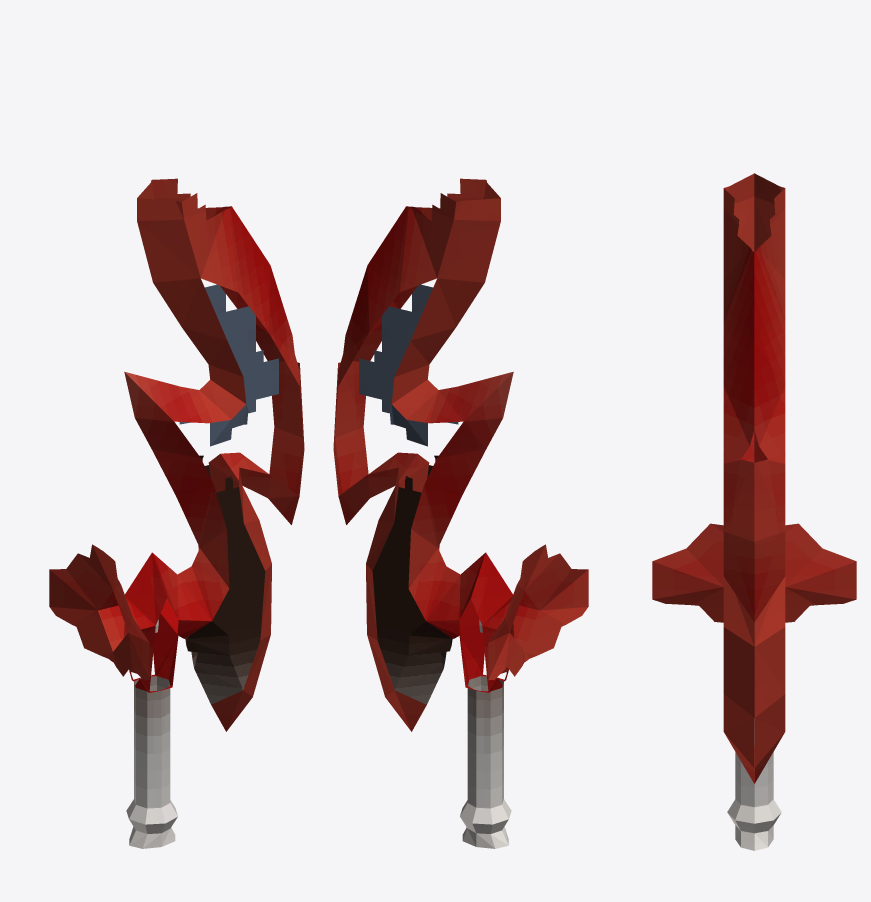
The model's file is 1001nights.obj.
The picture shows the model from 3 angles, left to right: view 1: azimuth 30°, elevation 25°; view 2: azimuth 150°, elevation 25°; view 3: azimuth 270°, elevation 25°; orthographic projection.
Size of the model in its own units: 79.55 by 243 by 50.84.
